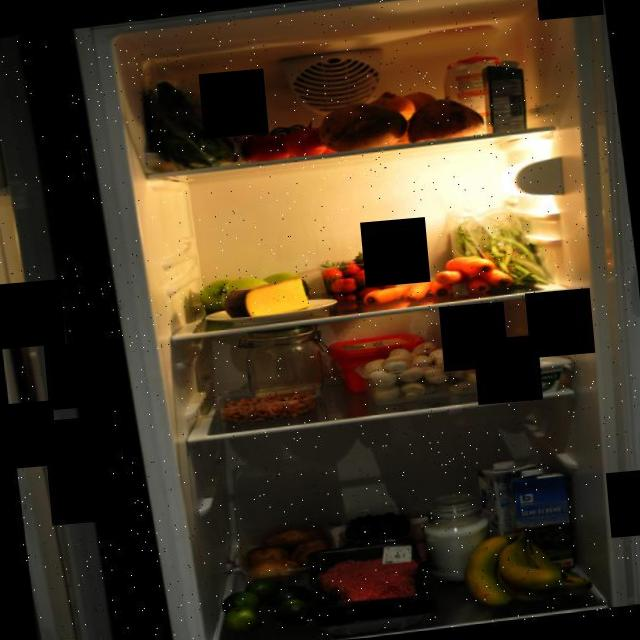Carne vacuno: (310, 544, 424, 608)
Cebolla: (367, 86, 439, 122)
Champiñones: (354, 334, 494, 406)
Gambas/Langostinos: (215, 389, 326, 422)
Leche: (504, 462, 580, 579), (475, 454, 547, 562)
Mantequilla: (324, 326, 426, 396)
Manzana: (198, 264, 309, 313)
Patata: (237, 516, 336, 582)
Plátano: (457, 519, 599, 611)
Queso: (218, 273, 318, 321), (494, 351, 572, 397)
Tomate: (238, 119, 340, 164)
Zanahoria: (427, 248, 518, 300), (358, 278, 429, 309)
blueberries: (343, 503, 414, 548)
corn: (474, 332, 520, 378)
flour: (228, 324, 330, 416)
green_beans: (436, 196, 546, 296)
heavy_cream: (481, 56, 531, 132)
spinach: (134, 54, 252, 176)
strawberries: (314, 248, 402, 304)
sugar: (418, 488, 497, 586), (438, 48, 512, 137)
sweet_potato: (321, 87, 484, 157)
